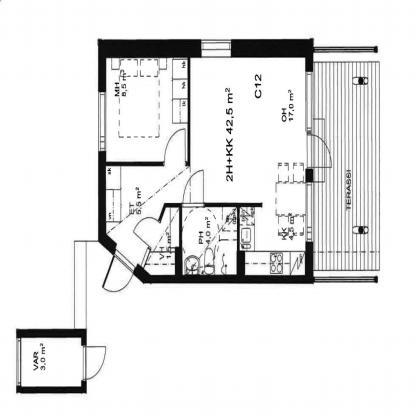bathroom: (178, 206, 240, 280)
door: (101, 253, 136, 296), (303, 128, 334, 172), (163, 124, 191, 171), (180, 167, 207, 211), (130, 215, 160, 250), (84, 342, 109, 383)
perimeter: (99, 40, 311, 284), (16, 331, 88, 392)
window: (302, 67, 319, 136), (303, 179, 318, 250), (198, 36, 235, 64), (95, 91, 110, 154)
